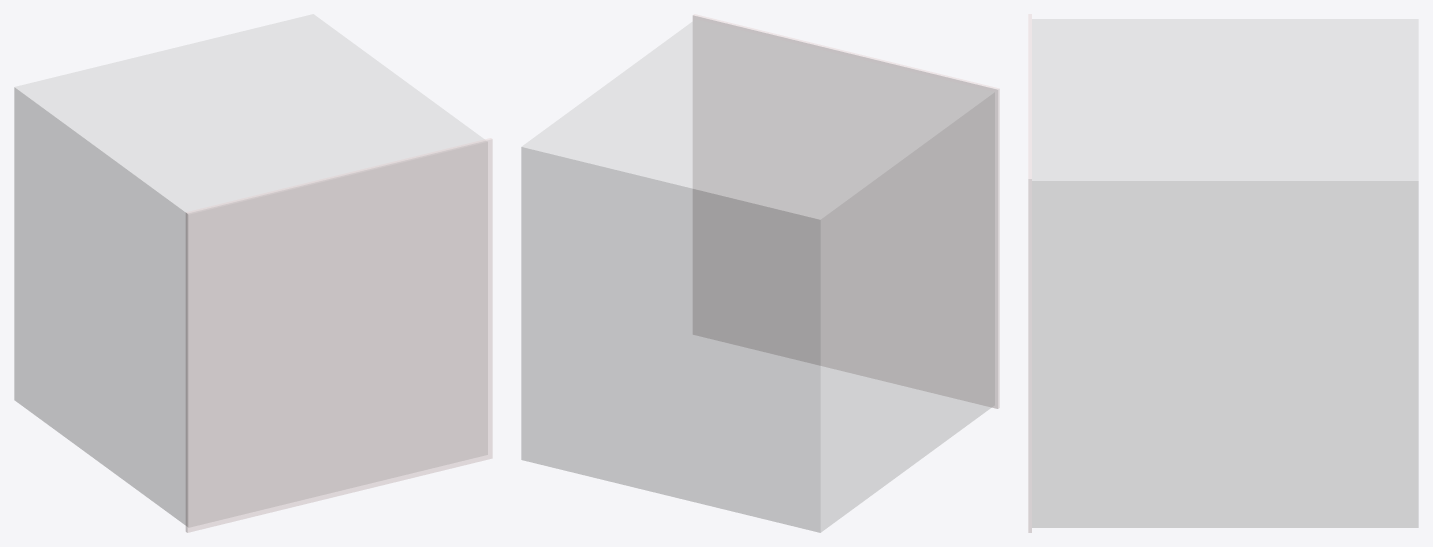
The picture shows the model from 3 angles, left to right: view 1: azimuth 30°, elevation 25°; view 2: azimuth 150°, elevation 25°; view 3: azimuth 270°, elevation 25°; orthographic projection. The views are drawn at different scales.
Parts seen in each view (by area): view 1: Gas, Pcb; view 2: Gas, Pcb; view 3: Gas, Pcb.
Boxes of the visible parts, x1,y1,x2,y2 form: Gas: [14, 14, 487, 527]; Pcb: [186, 138, 492, 532]; Gas: [521, 19, 994, 532]; Pcb: [693, 14, 999, 408]; Gas: [1032, 19, 1418, 527]; Pcb: [1028, 14, 1031, 532].
Bounding box in the file's own units: 510 × 510 × 510.
